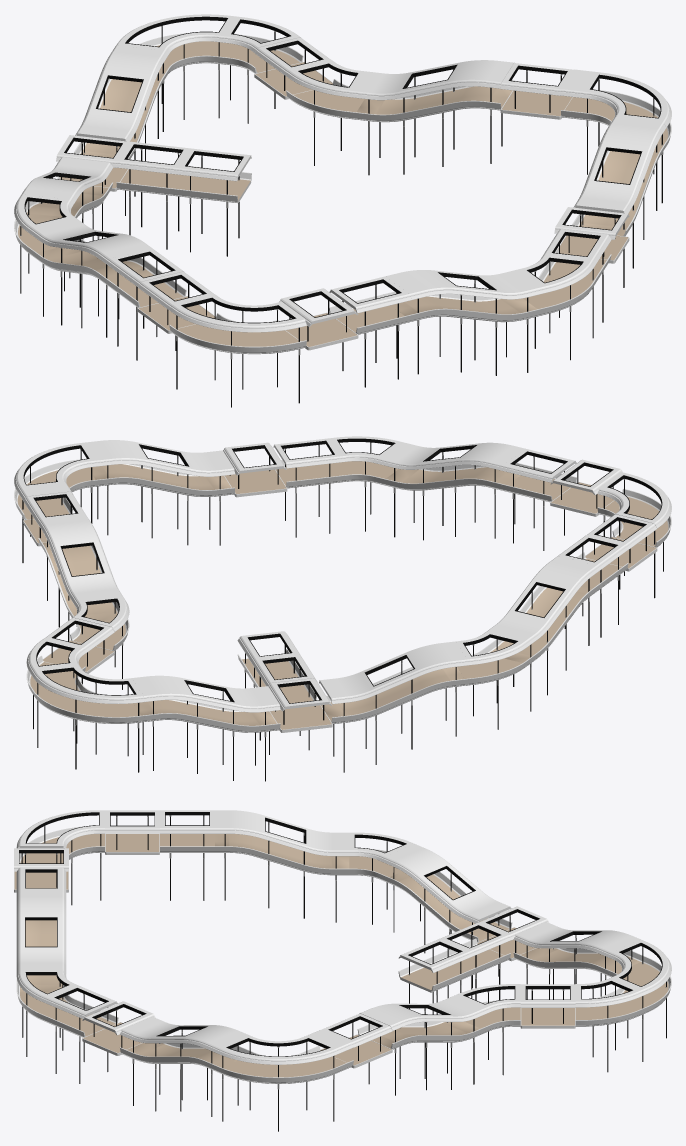
Rendered from medilab.gltf.
The picture shows the model from 3 angles, top to bottom: view 1: azimuth 30°, elevation 25°; view 2: azimuth 150°, elevation 25°; view 3: azimuth 270°, elevation 25°; orthographic projection. The views are drawn at different scales.
Visible parts, largest first — view 1: GangElevation_Mittel.004, GangElevation_Mittel.003, GangElevation_Mittel.002, GangElevation_Mittel.005, GangKurve_90Grad.001, GangElevation_Mittel.001, GangKurve_90Grad_Alt, GangElevation_Mittel, GangKurve_90Grad, GangConnector, GangConnector.004, GangConnector.002 (+12 smaller); view 2: GangElevation_Mittel, GangElevation_Mittel.002, GangElevation_Mittel.005, GangElevation_Mittel.001, GangElevation_Mittel.003, GangElevation_Mittel.004, GangKurve_90Grad, GangKurve_90Grad_Alt, GangKurve_90Grad.001, GangConnector.001, GangConnector.004, GangKurve_45Grad (+12 smaller); view 3: GangElevation_Mittel.001, GangElevation_Mittel, GangKurve_90Grad_Alt, GangElevation_Mittel.004, GangElevation_Mittel.002, GangElevation_Mittel.003, GangElevation_Mittel.005, GangKurve_90Grad.001, GangKurve_90Grad, GangConnector, GangKurve_45Grad.002, GangConnector.001 (+12 smaller).
Part boxes in pixels (box(x1,y1,x2,y2)): GangElevation_Mittel.004: box(352, 60, 514, 175); GangElevation_Mittel.003: box(383, 269, 544, 375); GangElevation_Mittel.002: box(572, 117, 666, 287); GangElevation_Mittel.005: box(74, 45, 167, 215); GangKurve_90Grad.001: box(169, 294, 306, 407); GangElevation_Mittel.001: box(30, 218, 155, 337); GangKurve_90Grad_Alt: box(561, 69, 671, 203); GangElevation_Mittel: box(19, 157, 113, 278); GangKurve_90Grad: box(114, 14, 235, 131); GangConnector: box(177, 148, 251, 256); GangConnector.004: box(329, 276, 411, 387); GangConnector.002: box(116, 141, 190, 249); GangElevation_Mittel: box(319, 641, 468, 772); GangElevation_Mittel.002: box(87, 440, 234, 545); GangElevation_Mittel.005: box(132, 675, 280, 781); GangElevation_Mittel.001: box(485, 556, 599, 711); GangElevation_Mittel.003: box(379, 442, 526, 540); GangElevation_Mittel.004: box(38, 515, 124, 667); GangKurve_90Grad: box(31, 664, 144, 772); GangKurve_90Grad_Alt: box(14, 442, 98, 562); GangKurve_90Grad.001: box(597, 472, 671, 598); GangConnector.001: box(273, 438, 342, 537); GangConnector.004: box(501, 448, 576, 550); GangKurve_45Grad: box(456, 631, 529, 729); GangElevation_Mittel.001: box(215, 810, 349, 922); GangElevation_Mittel: box(382, 844, 512, 987); GangKurve_90Grad_Alt: box(214, 1029, 353, 1131); GangElevation_Mittel.004: box(357, 995, 487, 1095); GangElevation_Mittel.002: box(120, 1016, 249, 1116); GangElevation_Mittel.003: box(16, 890, 66, 1037); GangElevation_Mittel.005: box(513, 922, 642, 999); GangKurve_90Grad.001: box(16, 810, 104, 905); GangKurve_90Grad: box(608, 939, 671, 1061); GangConnector: box(398, 939, 471, 1014); GangKurve_45Grad.002: box(575, 978, 643, 1072); GangConnector.001: box(45, 985, 118, 1083).
Bounding box in the file's own units: 109 × 23.78 × 120.
1 material, 1 textured.
